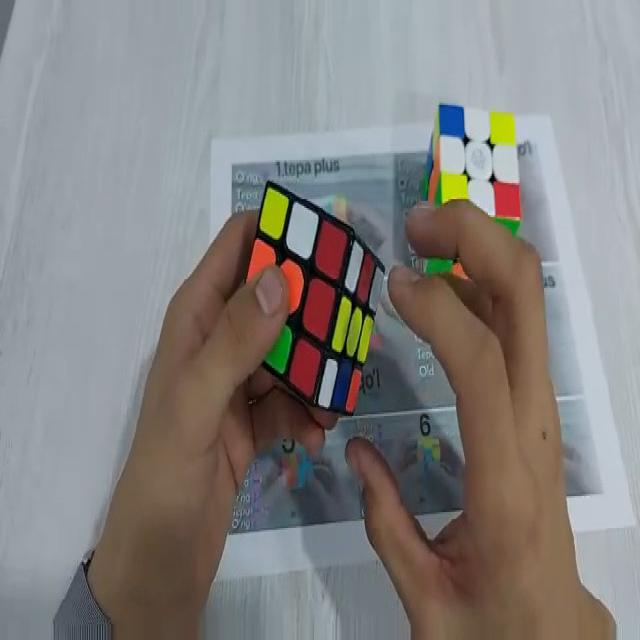Rub: (239, 178, 386, 415), (422, 103, 524, 280)
